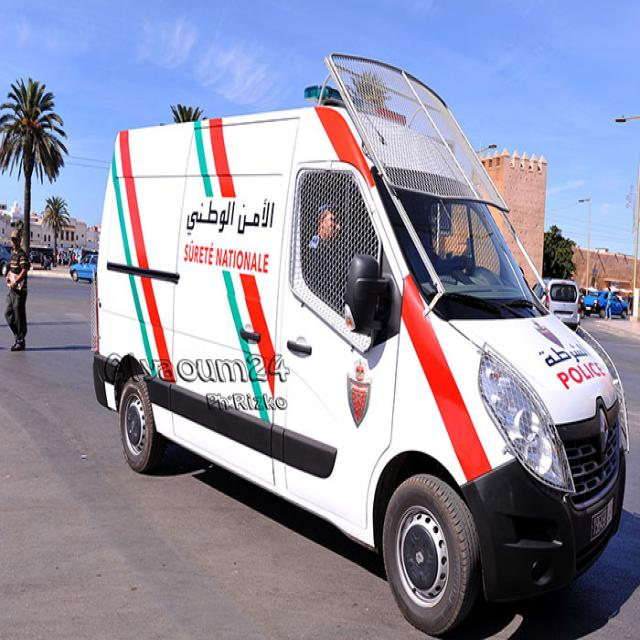police: (95, 85, 628, 630)
